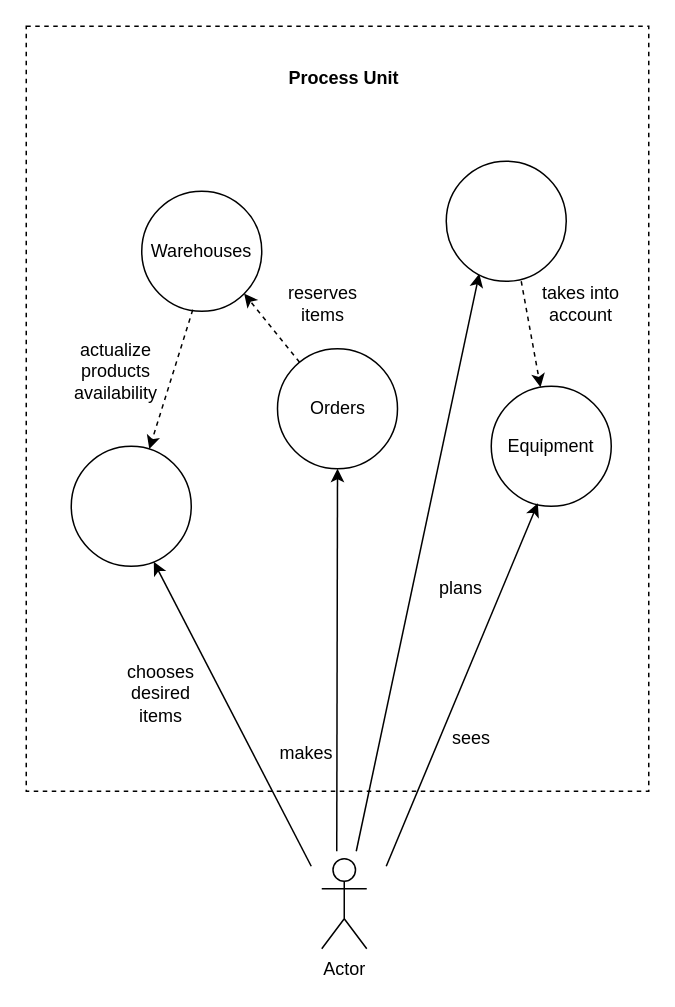
Image size: 675x1007. Some labels were removed from this diagram. Each missing label, with the box of its shape:
Products: (70, 445, 191, 566)
Training: (445, 160, 566, 281)
